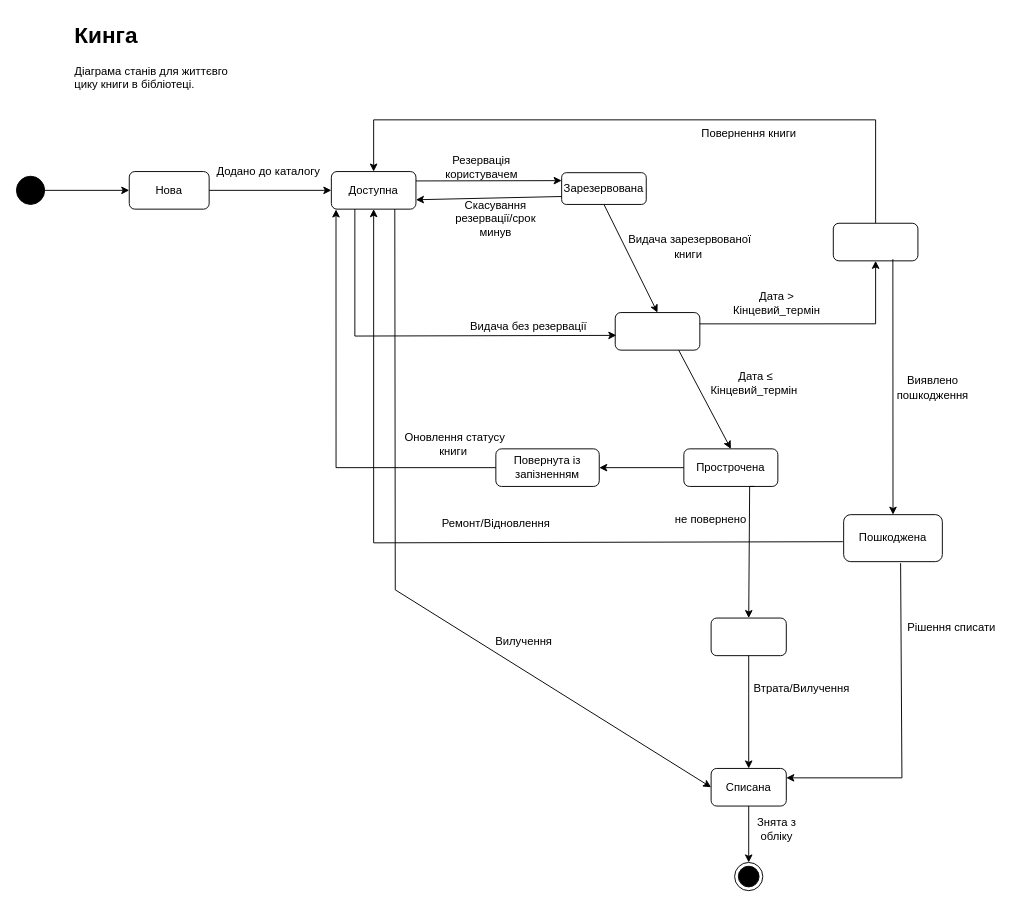
The diagram is 1020 pixels wide and 907 high, and some of its shapes have lost their labels. The shapes that lost their labels are listed below. From the top down, each one's centre as x and y in pixels, then its label:
At point 875,241: "Повернута".
At point 657,331: "Видана".
At point 748,636: "Втрачена".
